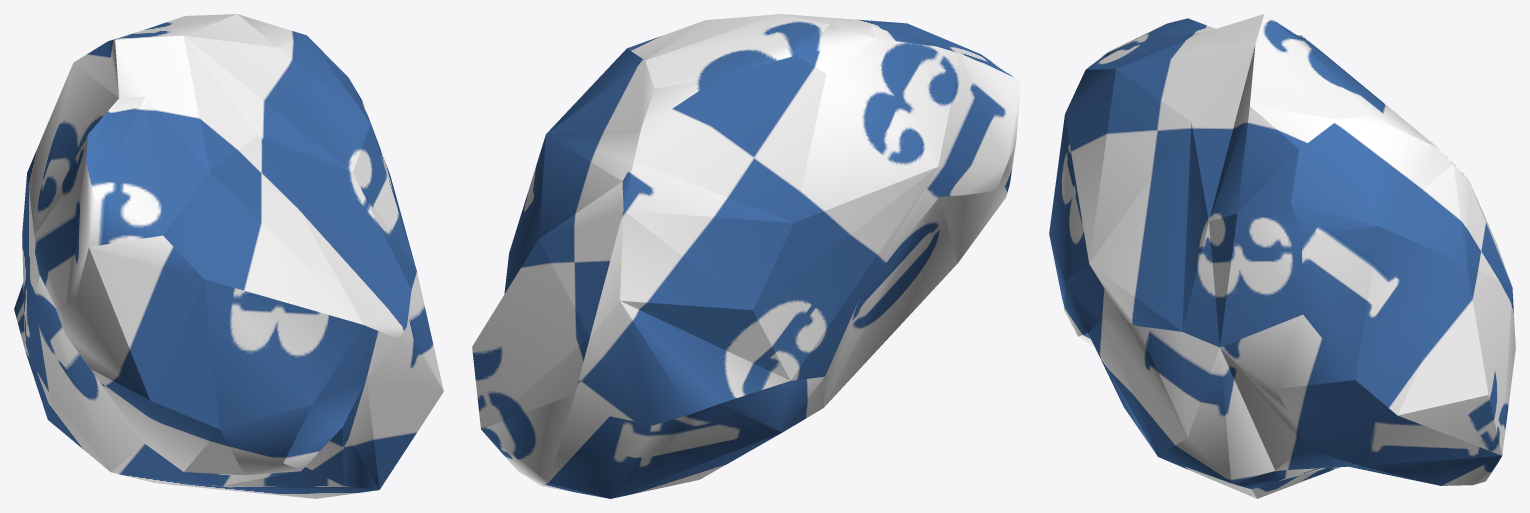
The model's file is Rock001.fbx.
The picture shows the model from 3 angles, left to right: view 1: azimuth 30°, elevation 25°; view 2: azimuth 150°, elevation 25°; view 3: azimuth 270°, elevation 25°; orthographic projection. The views are drawn at different scales.
Parts seen in each view (by area): view 1: SM_e_Useful_Rock001; view 2: SM_e_Useful_Rock001; view 3: SM_e_Useful_Rock001.
Boxes of the visible parts, box(x1,y1,x2,y2) form: SM_e_Useful_Rock001: box(14, 14, 443, 498); SM_e_Useful_Rock001: box(472, 14, 1020, 498); SM_e_Useful_Rock001: box(1049, 14, 1515, 498).
Bounding box in the file's own units: 18.29 × 20.07 × 20.69.
